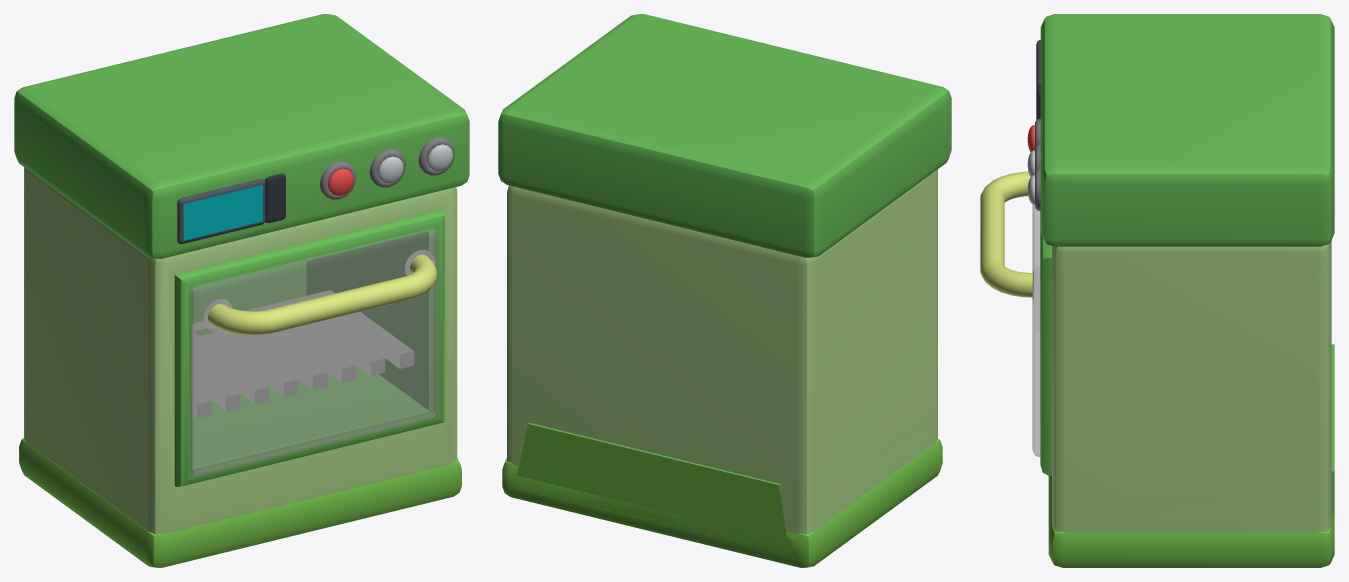
The model's file is machine2.fbx.
3 renders of one model, left to right at view 1: azimuth 30°, elevation 25°; view 2: azimuth 150°, elevation 25°; view 3: azimuth 270°, elevation 25°, orthographic. The views are drawn at different scales.
Parts seen in each view (by area): view 1: pCube55, pCube56, polySurface3, pCube63, pCube62, pCube57, pCube58, pTorus3, pTorus2, pTorus1, pSphere2, pSphere3; view 2: pCube55, pCube56, pCube63; view 3: pCube55, pCube56, pCube63, polySurface3.
Part boxes in pixels (x1=…): pCube55: x1=24, y1=167, x2=457, y2=534; pCube56: x1=14, y1=14, x2=469, y2=259; polySurface3: x1=174, y1=209, x2=444, y2=486; pCube63: x1=19, y1=438, x2=461, y2=567; pCube62: x1=192, y1=290, x2=413, y2=417; pCube57: x1=177, y1=178, x2=265, y2=244; pCube58: x1=265, y1=173, x2=285, y2=222; pTorus3: x1=418, y1=137, x2=454, y2=175; pTorus2: x1=369, y1=149, x2=406, y2=187; pTorus1: x1=319, y1=161, x2=356, y2=199; pSphere2: x1=377, y1=156, x2=403, y2=183; pSphere3: x1=427, y1=144, x2=453, y2=171; pCube55: x1=507, y1=169, x2=937, y2=534; pCube56: x1=498, y1=14, x2=951, y2=257; pCube63: x1=502, y1=423, x2=942, y2=567; pCube55: x1=1052, y1=240, x2=1331, y2=532; pCube56: x1=1040, y1=14, x2=1334, y2=246; pCube63: x1=1048, y1=344, x2=1334, y2=567; polySurface3: x1=980, y1=171, x2=1051, y2=475.
Size of the model in its own units: 458 by 527 by 420.
3 materials, 1 textured.
